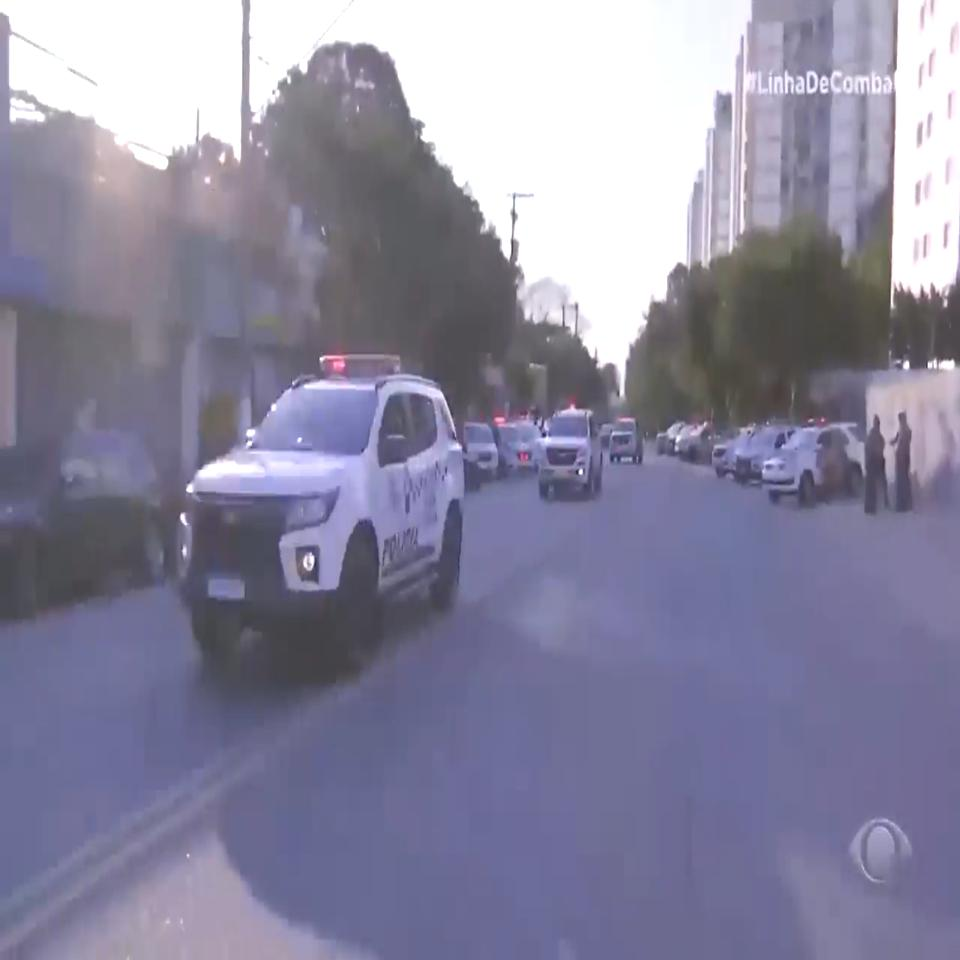viatura: (174, 349, 466, 660), (538, 399, 605, 498)
